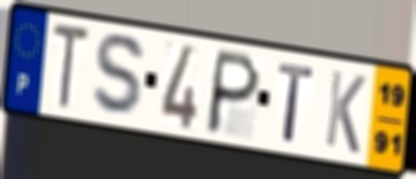4: (159, 41, 201, 132)
K: (322, 66, 368, 158)
P: (202, 46, 264, 138)
S: (89, 30, 150, 121)
T: (50, 19, 93, 111), (276, 59, 316, 146)
